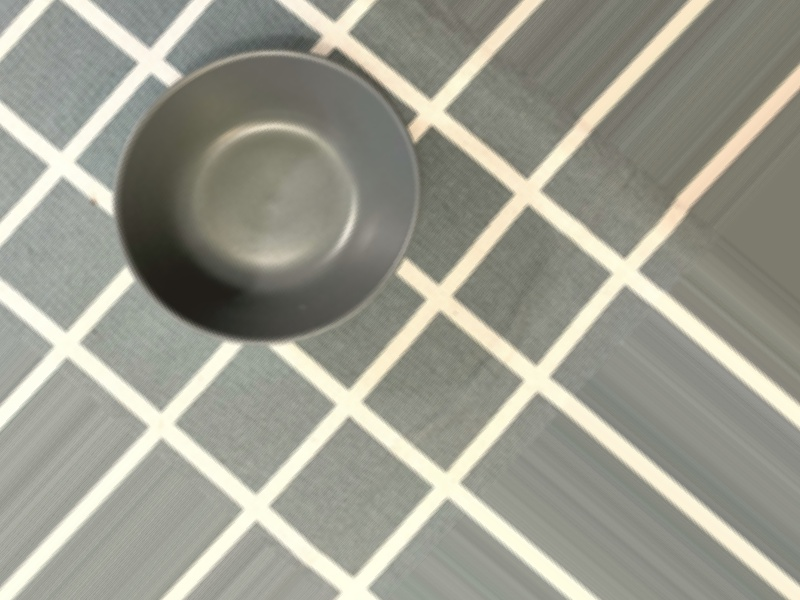bowl_big: (30, 0, 498, 413)
